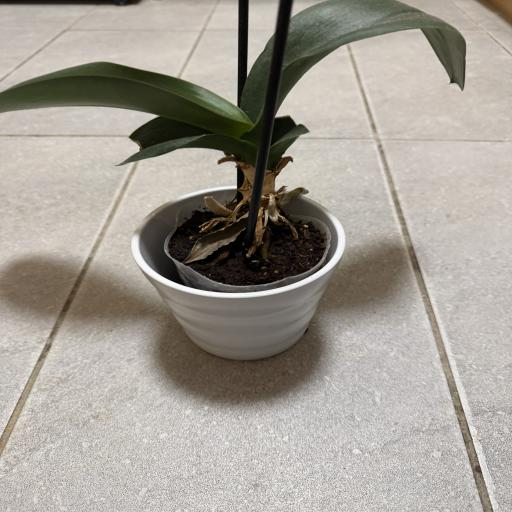Plant Pot: (128, 181, 349, 363)
